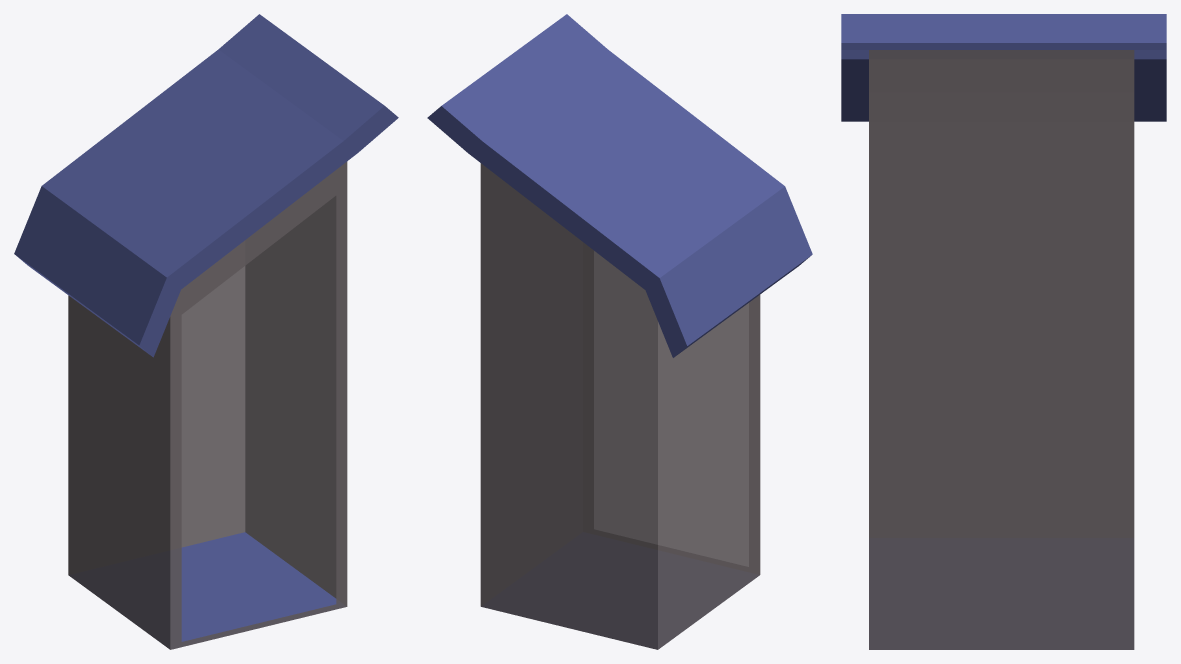
The model's file is RandomRakennus.fbx.
3 views of the same model, side by side, from view 1: azimuth 30°, elevation 25°; view 2: azimuth 150°, elevation 25°; view 3: azimuth 270°, elevation 25° (orthographic). The views are drawn at different scales.
Visible parts, largest first — view 1: Cube; view 2: Cube; view 3: Cube.
Part boxes in pixels (x1,y1,x2,y2): Cube: [14, 14, 398, 649]; Cube: [427, 14, 812, 649]; Cube: [841, 14, 1166, 649].
Bounding box in the file's own units: 245 × 294 × 543.
